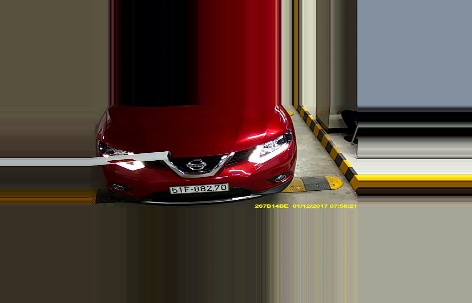plate: (167, 183, 230, 196)
